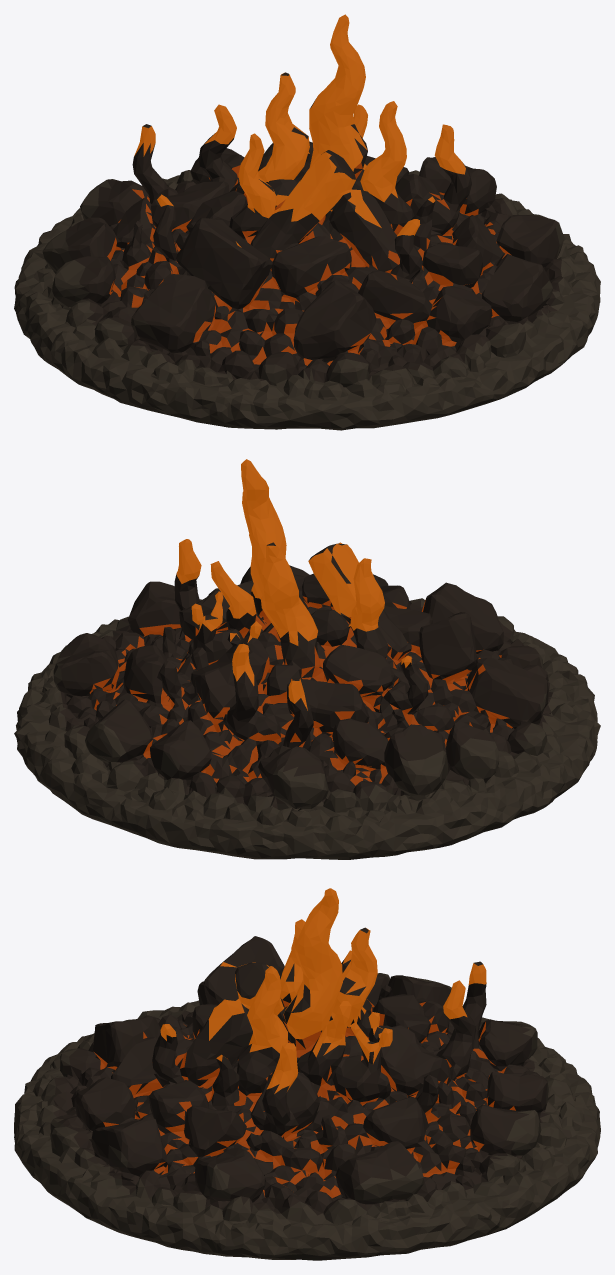
The model's file is brasa_chao.glb.
The picture shows the model from 3 angles, top to bottom: view 1: azimuth 30°, elevation 25°; view 2: azimuth 150°, elevation 25°; view 3: azimuth 270°, elevation 25°; orthographic projection.
Visible parts, largest first — view 1: tmpd45ele0k.ply; view 2: tmpd45ele0k.ply; view 3: tmpd45ele0k.ply.
Part boxes in pixels (x1,y1,x2,y2): tmpd45ele0k.ply: (14,14,600,430); tmpd45ele0k.ply: (14,459,600,859); tmpd45ele0k.ply: (14,888,600,1260).
Bounding box in the file's own units: 1.96 × 1.05 × 1.96.
